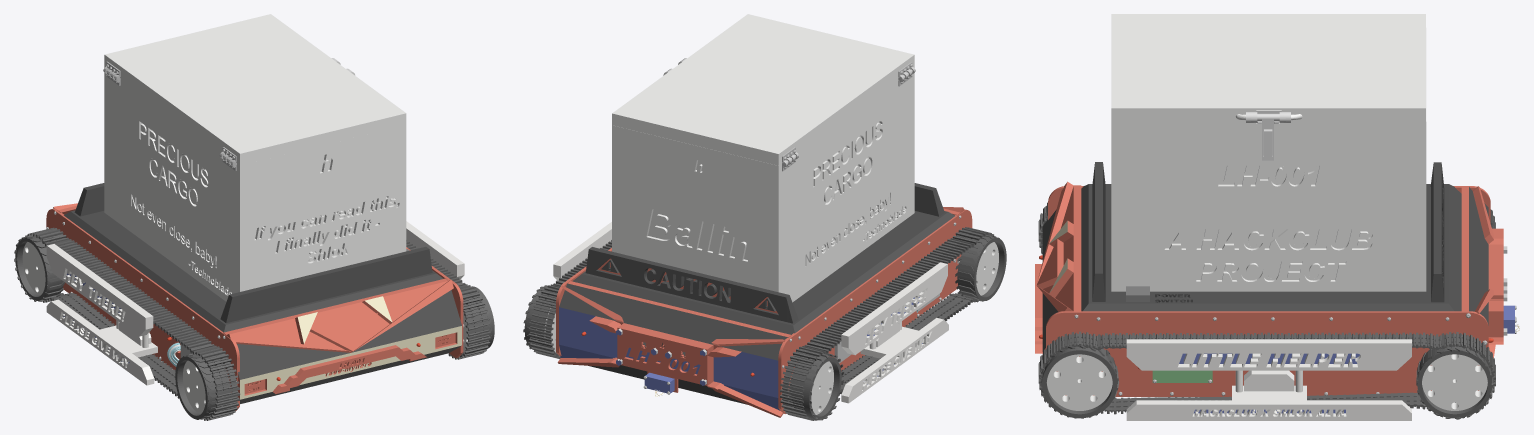
The model's file is Little Helper Main.step.glb.
The picture shows the model from 3 angles, left to right: view 1: azimuth 30°, elevation 25°; view 2: azimuth 150°, elevation 25°; view 3: azimuth 270°, elevation 25°; orthographic projection. The views are drawn at different scales.
Parts seen in each view (by area): view 1: Node4, Node25, Node14, Node20, Node16, Node29, Node15, Node5, Node6, Node23, Node13, Node9 (+6 smaller); view 2: Node4, Node25, Node20, Node23, Node26, Node14, Node16, Node10, Node8, Node15, Node9, Node18 (+4 smaller); view 3: Node4, Node14, Node25, Node20, Node5, Node23, Node16, Node12, Node26, Node3, Node22, Node8 (+5 smaller).
Part boxes in pixels (box(x1,y1,x2,y2)): Node4: box(22, 14, 473, 414); Node25: box(64, 183, 461, 403); Node14: box(46, 208, 463, 410); Node20: box(46, 221, 464, 385); Node16: box(14, 235, 494, 420); Node29: box(240, 296, 461, 399); Node15: box(169, 328, 239, 415); Node5: box(188, 154, 399, 295); Node6: box(38, 231, 190, 393); Node23: box(53, 203, 450, 398); Node13: box(96, 323, 240, 417); Node9: box(56, 240, 414, 300); Node4: box(545, 14, 998, 414); Node25: box(559, 183, 955, 404); Node20: box(553, 222, 959, 403); Node23: box(557, 207, 964, 417); Node26: box(559, 297, 922, 410); Node14: box(556, 207, 972, 413); Node16: box(524, 236, 1006, 420); Node10: box(780, 288, 898, 420); Node8: box(528, 281, 562, 358); Node15: box(930, 227, 995, 313); Node9: box(810, 286, 901, 348); Node18: box(555, 62, 961, 394); Node4: box(1046, 14, 1487, 410); Node14: box(1035, 181, 1490, 396); Node25: box(1042, 162, 1488, 351); Node20: box(1126, 324, 1517, 420); Node5: box(1164, 165, 1372, 281); Node23: box(1042, 185, 1503, 357); Node16: box(1042, 209, 1493, 418); Node12: box(1047, 331, 1489, 413); Node26: box(1179, 305, 1514, 413); Node3: box(1039, 332, 1165, 418); Node22: box(1246, 111, 1290, 160); Node8: box(1249, 332, 1495, 418).
Size of the model in its own units: 65.76 by 51.47 by 80.61.
